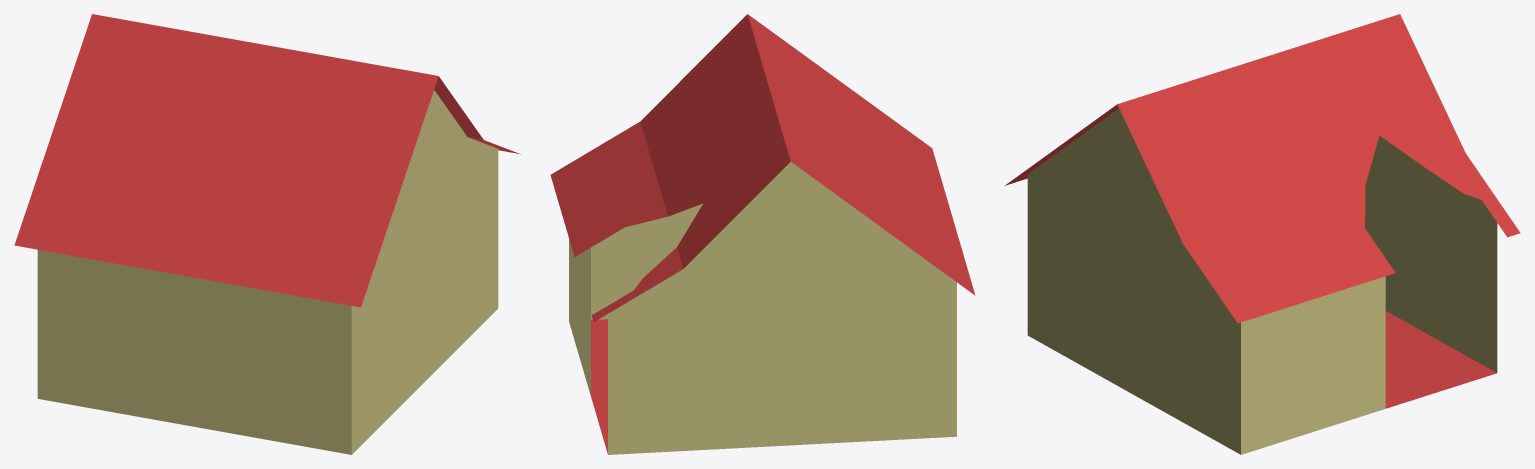
3 views of the same model, side by side, from view 1: azimuth 30°, elevation 25°; view 2: azimuth 150°, elevation 25°; view 3: azimuth 270°, elevation 25° (orthographic). The views are drawn at different scales.
Bounding box in the file's own units: 23.5 × 23.21 × 14.53.
